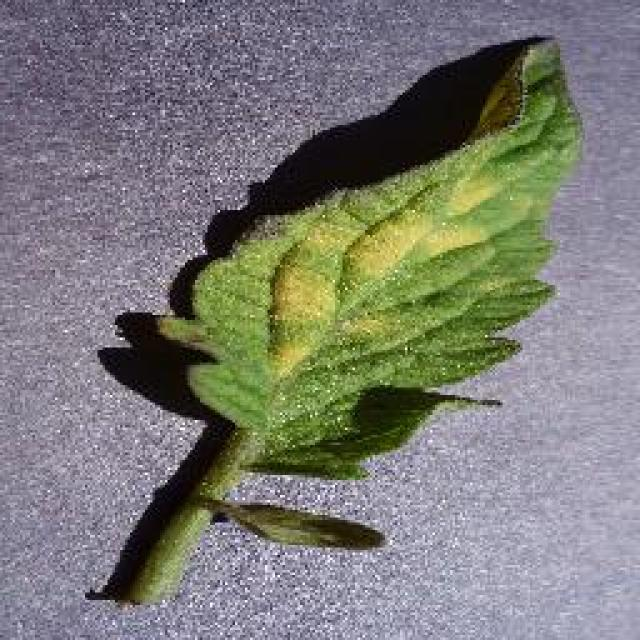Tomato___Leaf_Mold: (128, 40, 578, 598)
